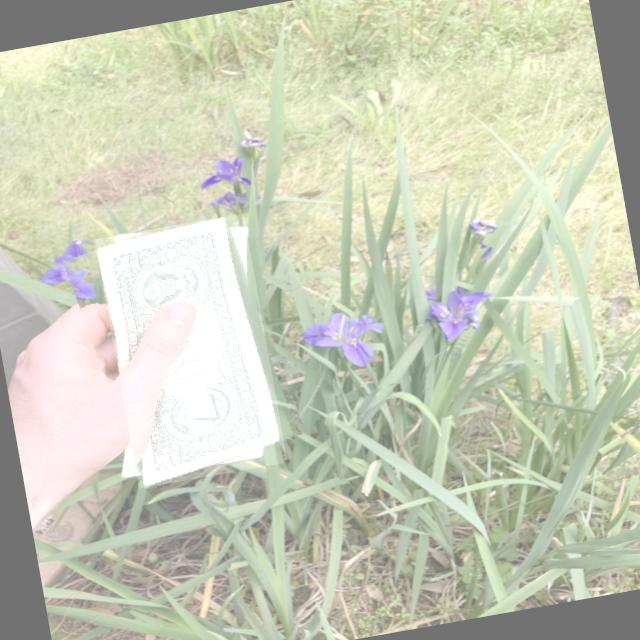one: (85, 216, 287, 487)
